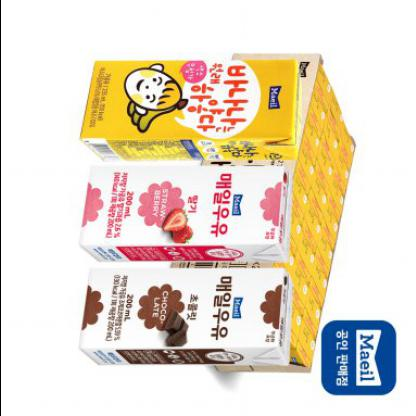tetra: (74, 44, 306, 164), (75, 268, 301, 375), (76, 164, 304, 270)
